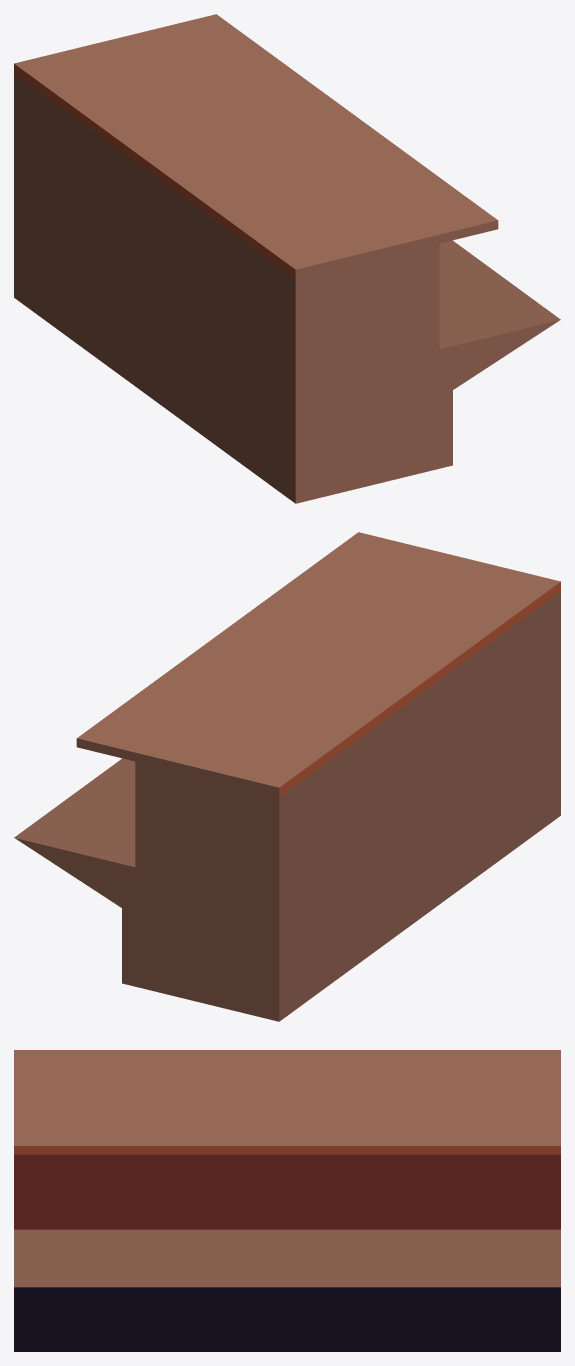
File: counter.dae
3 views of the same model, one above another, from view 1: azimuth 30°, elevation 25°; view 2: azimuth 150°, elevation 25°; view 3: azimuth 270°, elevation 25° (orthographic). The views are drawn at different scales.
Parts seen in each view (by area): view 1: Cube; view 2: Cube; view 3: Cube.
Part boxes in pixels (left/top/right/bottom): Cube: left=14, top=14, right=560, bottom=503; Cube: left=14, top=532, right=560, bottom=1021; Cube: left=14, top=1050, right=560, bottom=1351.
Bounding box in the file's own units: 1.84 × 3.38 × 1.55.
Materials: 1 (1 with a texture image).
